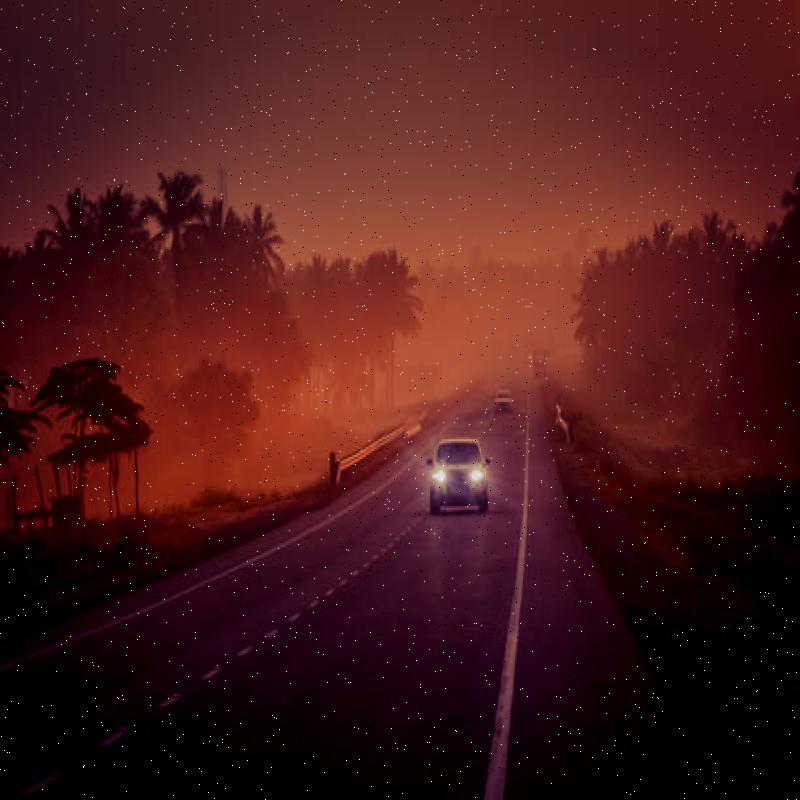car: (421, 434, 496, 521)
